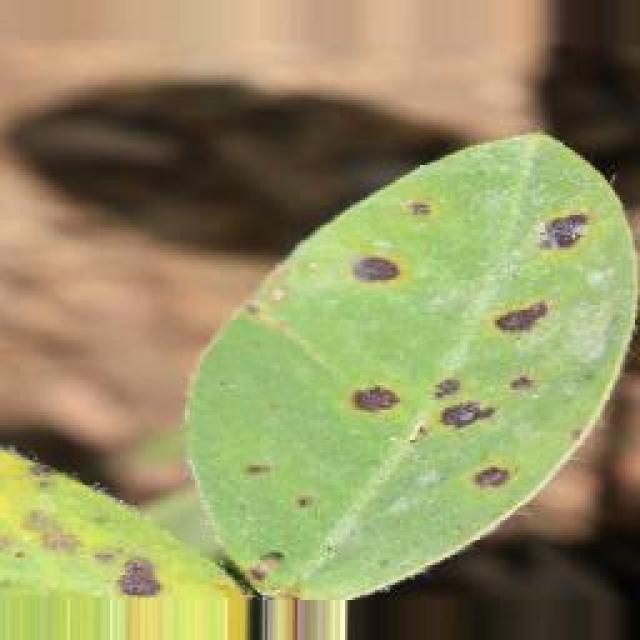Yellowish: (177, 118, 612, 572), (0, 367, 310, 640)
